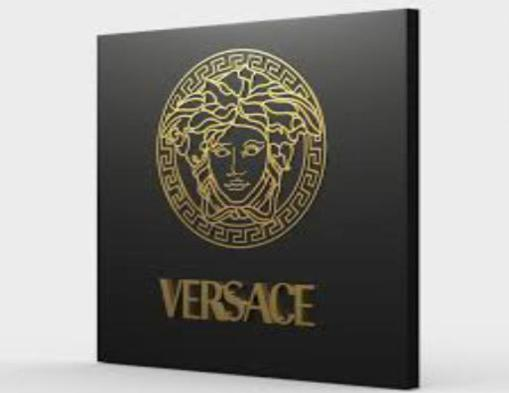VERSACE: (133, 44, 331, 339)
